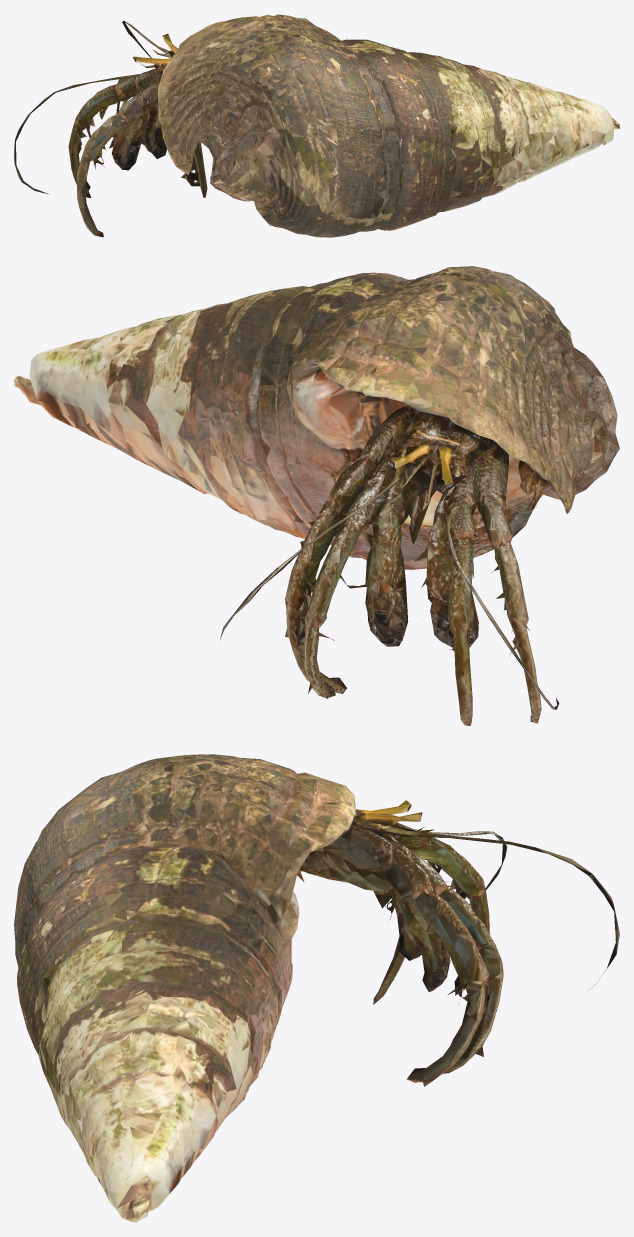
The model's file is hermitcrab.glb.
The picture shows the model from 3 angles, top to bottom: view 1: azimuth 30°, elevation 25°; view 2: azimuth 150°, elevation 25°; view 3: azimuth 270°, elevation 25°; orthographic projection. The views are drawn at different scales.
Visible parts, largest first — view 1: body; view 2: body; view 3: body.
Part boxes in pixels (x1,y1,x2,y2): body: (14, 14, 619, 237); body: (14, 266, 619, 725); body: (14, 754, 619, 1222).
Size of the model in its own units: 0.9982 by 0.4421 by 0.7512.
Materials: 1 (1 with a texture image).
